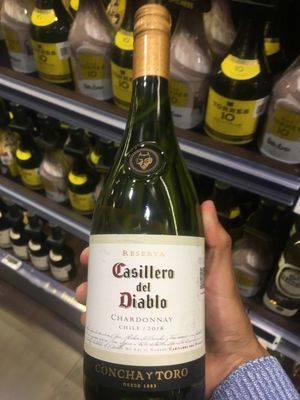casillero del diablo chardonnay: (72, 23, 215, 400)
